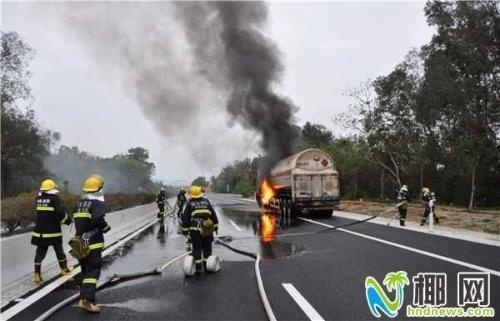fire: (257, 179, 278, 238), (259, 179, 275, 203)
